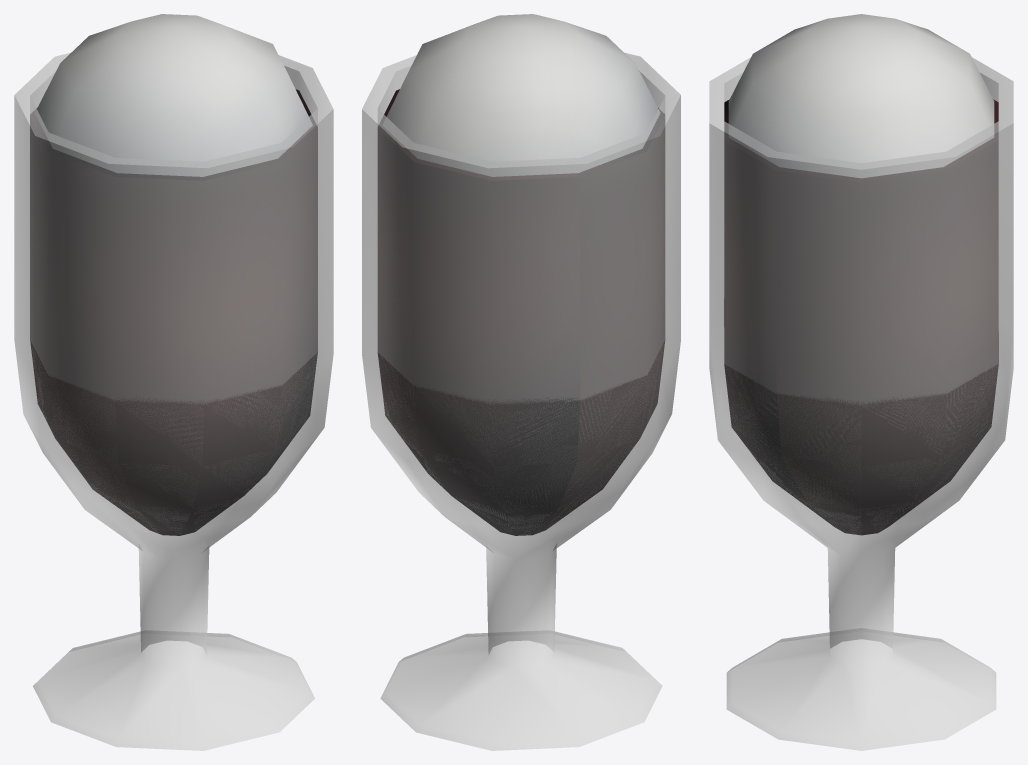
The model's file is prop_foodmenu10a.fbx.
3 views of the same model, side by side, from view 1: azimuth 30°, elevation 25°; view 2: azimuth 150°, elevation 25°; view 3: azimuth 270°, elevation 25° (orthographic).
Visible parts, largest first — view 1: prop_foodmenu10a; view 2: prop_foodmenu10a; view 3: prop_foodmenu10a.
Part boxes in pixels (x1,y1,x2,y2): prop_foodmenu10a: (14, 14, 333, 750); prop_foodmenu10a: (362, 14, 680, 750); prop_foodmenu10a: (709, 14, 1013, 750).
Size of the model in its own units: 0.1178 by 0.2697 by 0.1121.
